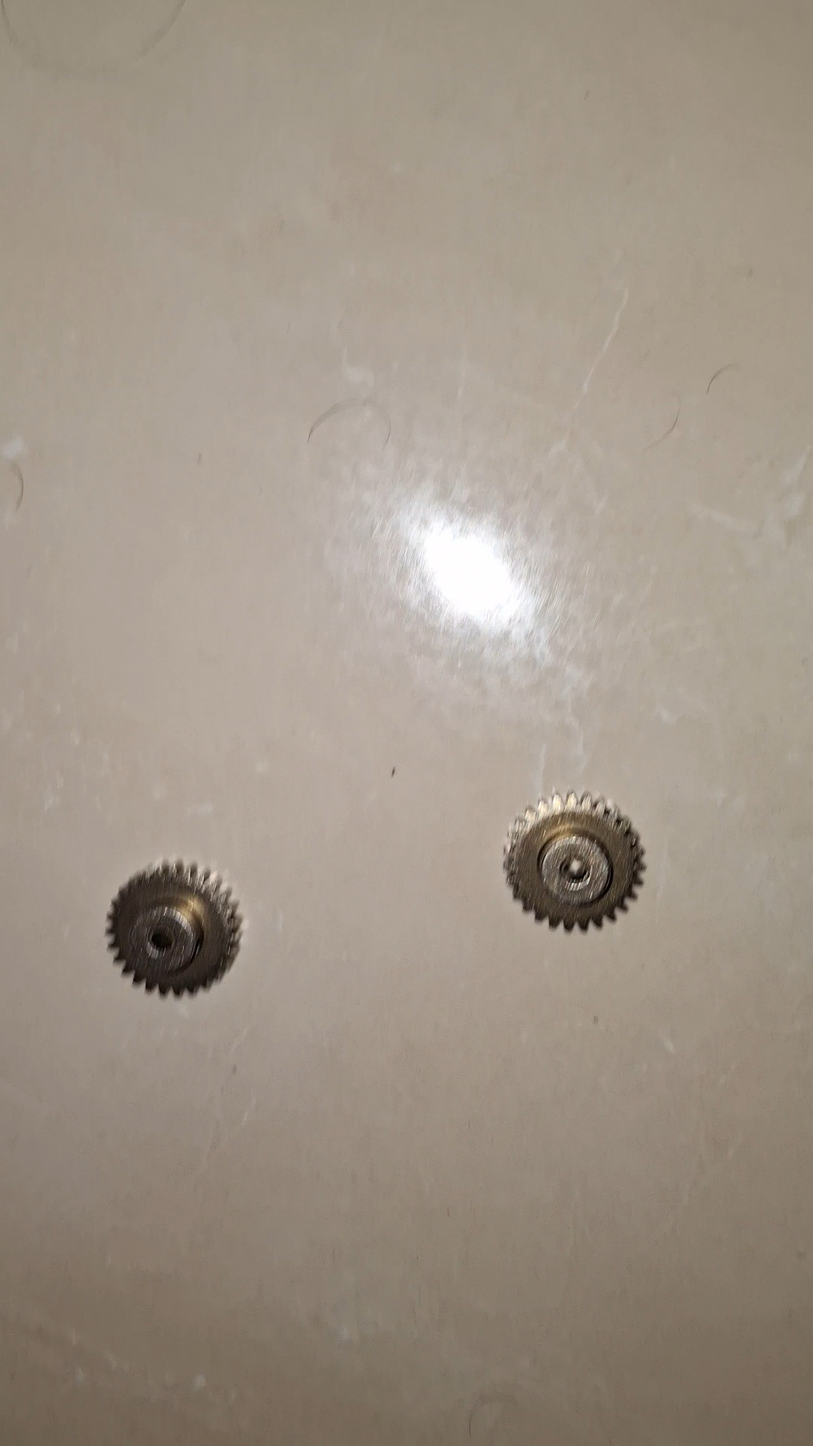spur gear: (504, 793, 644, 930), (107, 862, 241, 995)
